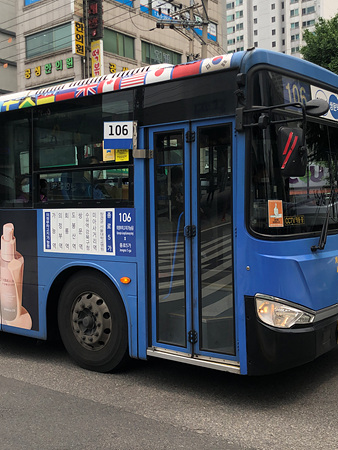entrance: (146, 118, 244, 367)
